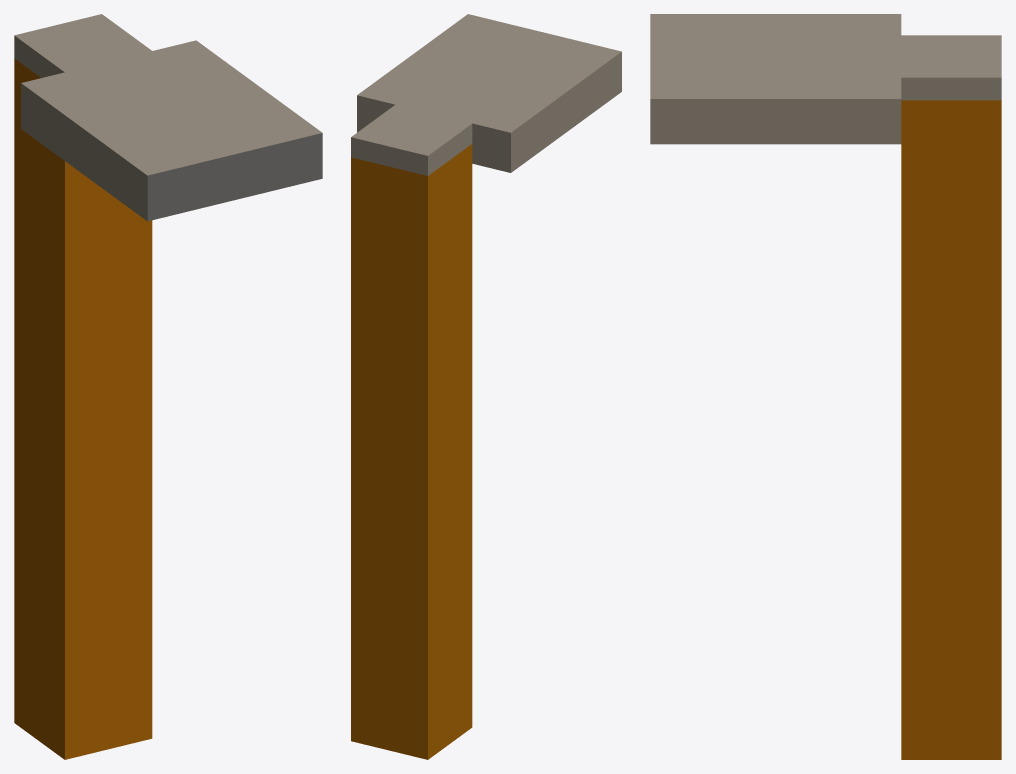
Rendered from Street_Light.glb.
3 views of the same model, side by side, from view 1: azimuth 30°, elevation 25°; view 2: azimuth 150°, elevation 25°; view 3: azimuth 270°, elevation 25° (orthographic). The views are drawn at different scales.
Parts seen in each view (by area): view 1: cube (×3); view 2: cube (×3); view 3: cube (×3).
Part boxes in pixels (x1,y1,x2,y2): cube (×3): (14,14,322,759); cube (×3): (351,14,621,759); cube (×3): (650,14,1001,759).
Size of the model in its own units: 0.5 by 1.88 by 0.875.
Materials: 1 (1 with a texture image).
